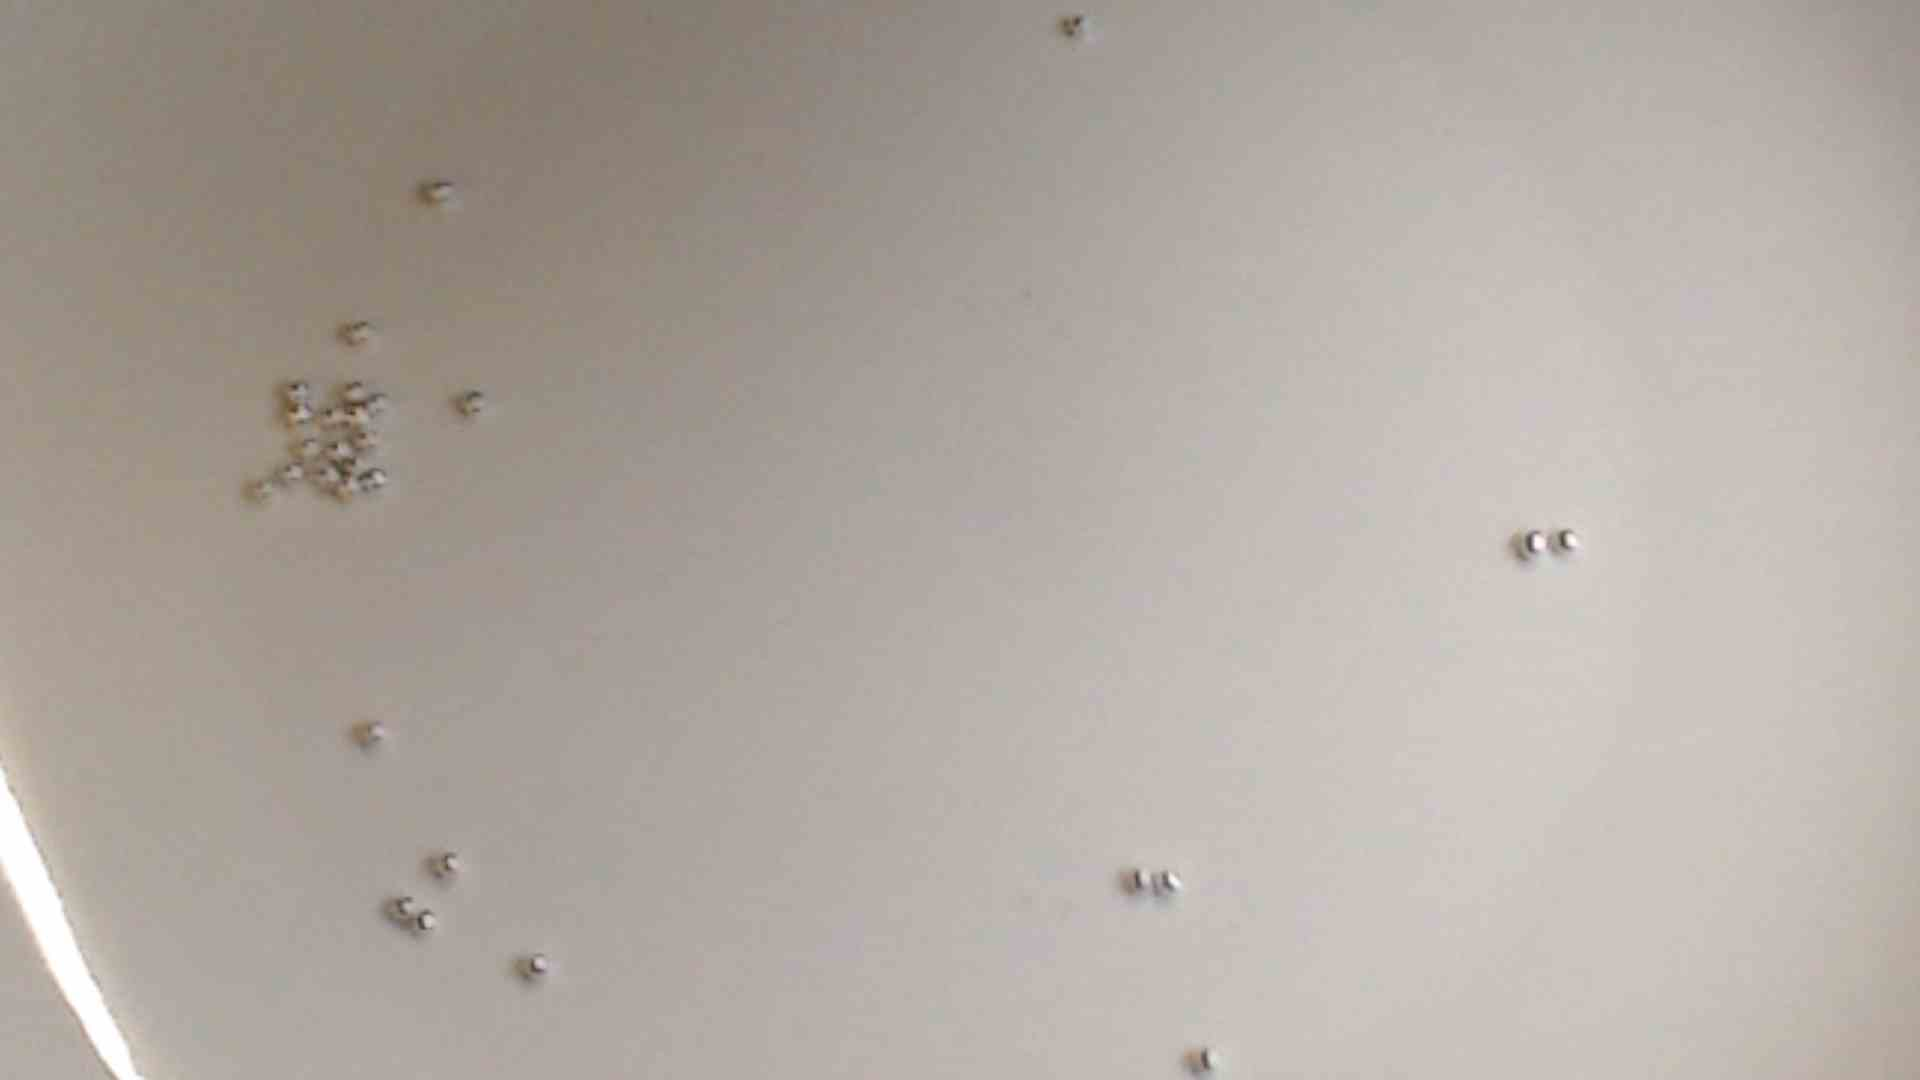chocolate: (426, 847, 469, 887), (1056, 7, 1095, 51), (1549, 520, 1590, 560), (1149, 865, 1189, 905), (419, 175, 458, 218), (1514, 520, 1553, 559), (517, 948, 558, 985), (1187, 1042, 1224, 1080), (355, 715, 392, 752), (382, 891, 419, 928), (338, 316, 376, 352), (410, 906, 446, 943), (1120, 862, 1154, 898), (248, 475, 280, 509), (459, 388, 491, 418), (360, 465, 392, 496), (278, 459, 310, 489), (348, 425, 381, 454), (311, 462, 340, 495), (342, 404, 375, 431), (322, 436, 352, 465), (334, 475, 363, 505), (338, 454, 371, 480), (294, 436, 323, 465), (316, 404, 345, 431), (365, 392, 396, 418), (284, 404, 313, 429), (339, 378, 367, 404), (282, 378, 311, 401)
